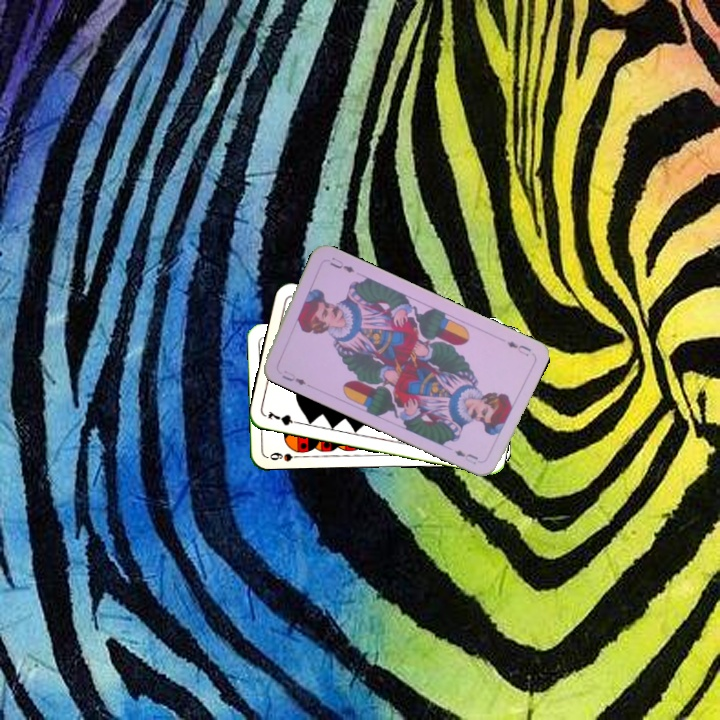EU: (278, 366, 309, 388), (503, 337, 534, 359)
G7: (263, 407, 304, 428)
S9: (266, 449, 306, 464)
